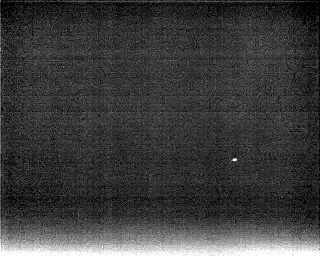BIRD: (230, 155, 239, 165)
